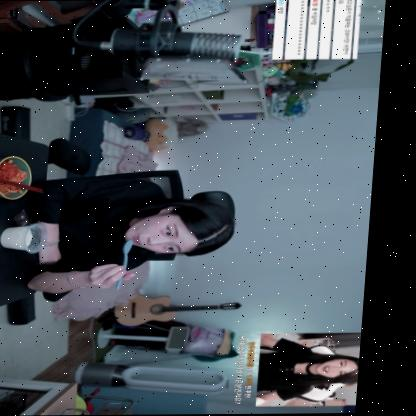donation: (238, 333, 368, 406)
streamer: (31, 174, 242, 294)
